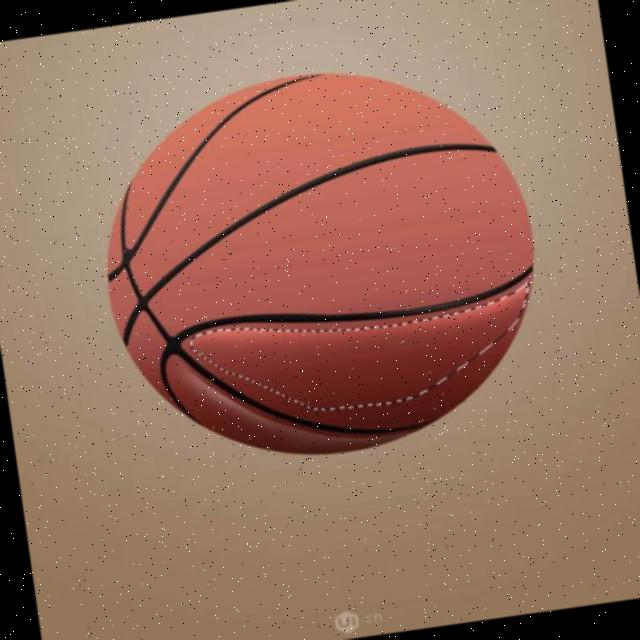ball: (81, 44, 560, 483)
